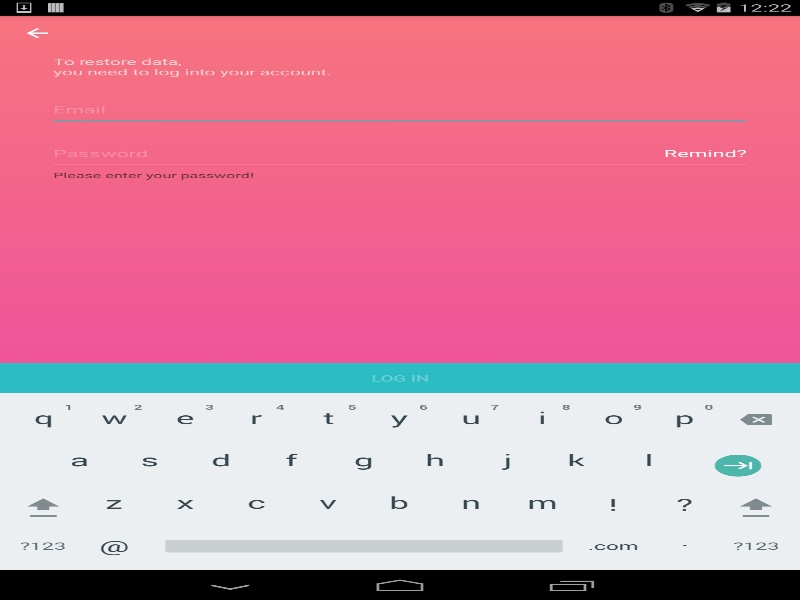Button: (0, 15, 74, 50)
Input: (53, 92, 746, 126), (53, 136, 746, 170)
